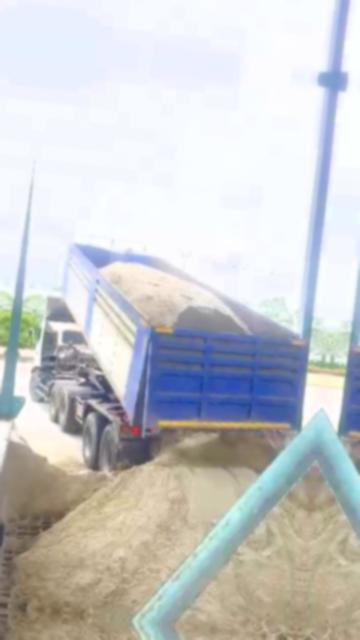sand: (12, 427, 292, 620), (179, 474, 314, 636), (100, 261, 249, 333), (1, 427, 104, 521)
